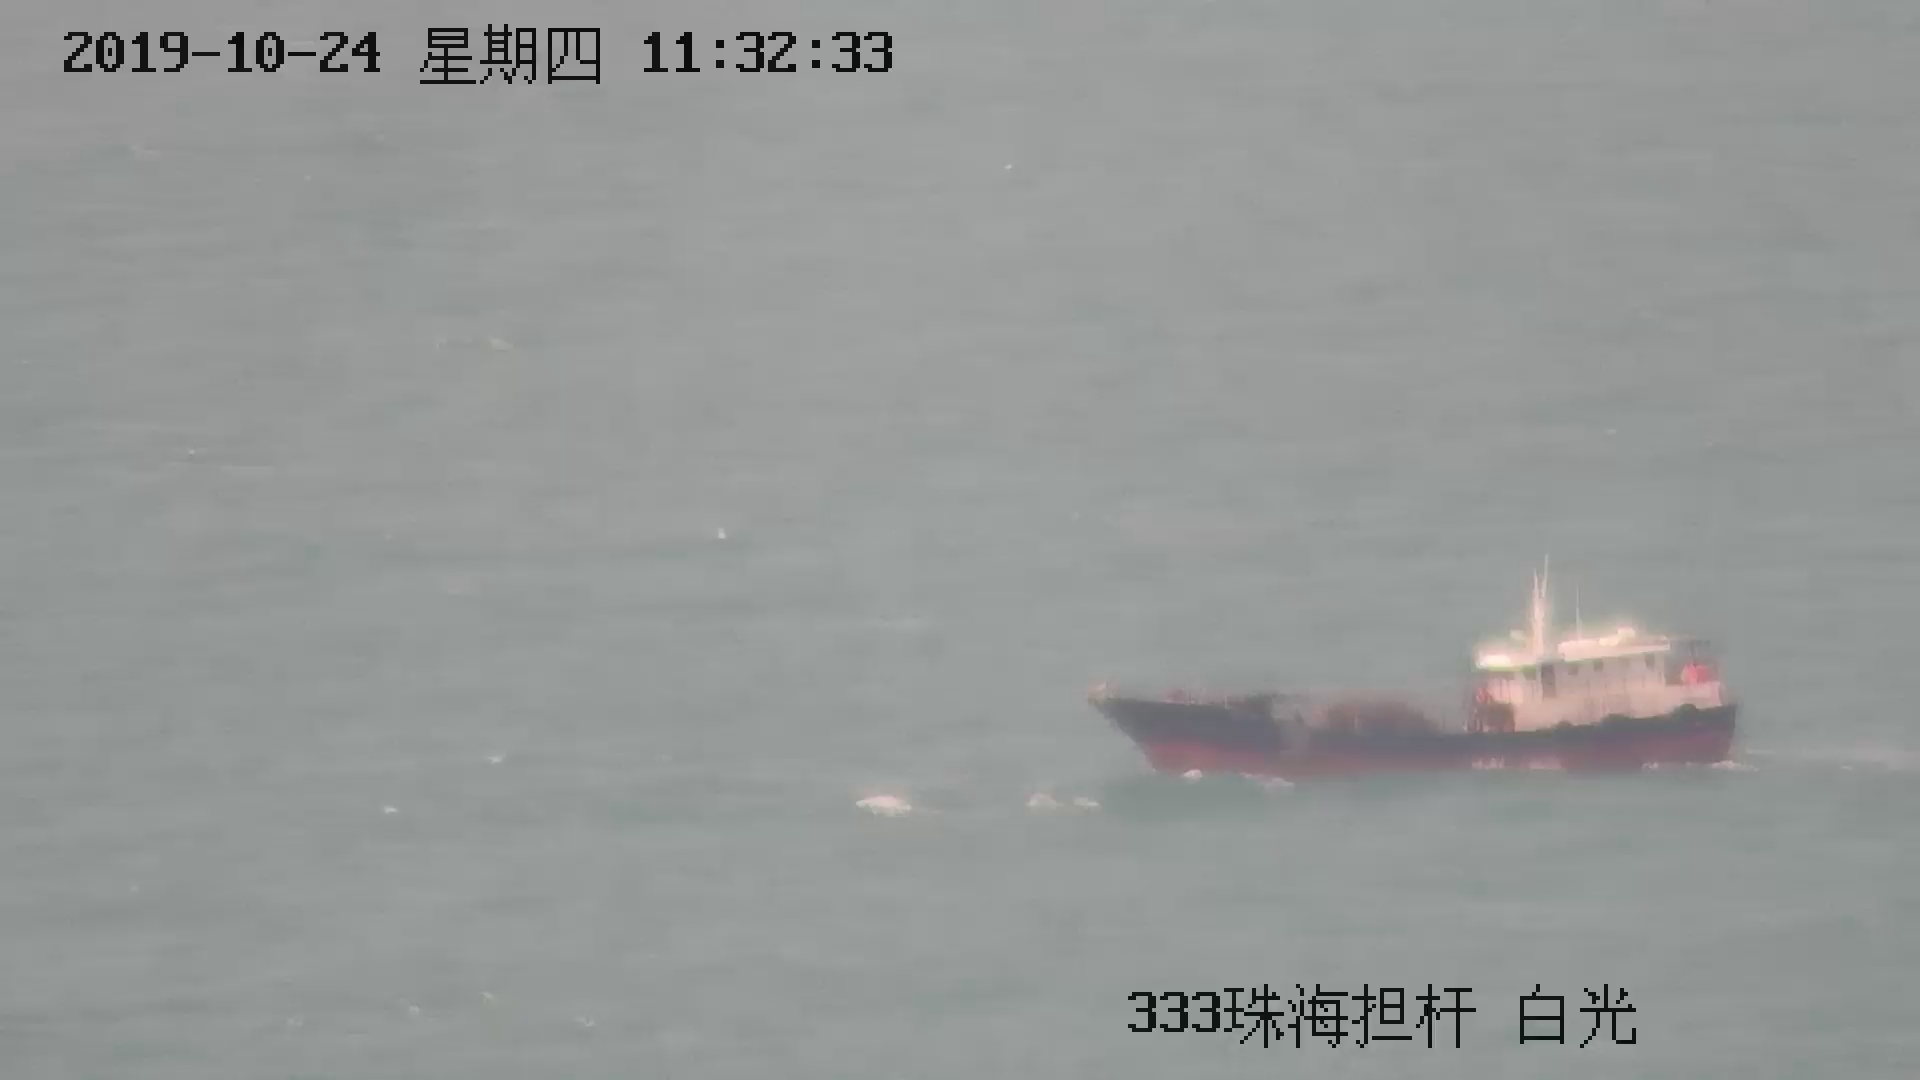ship: (1075, 574, 1745, 781)
